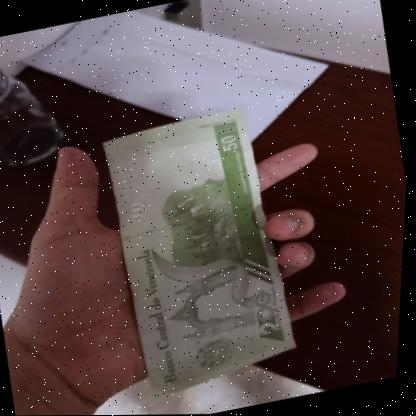fifty-back-vef: (91, 103, 314, 400)
